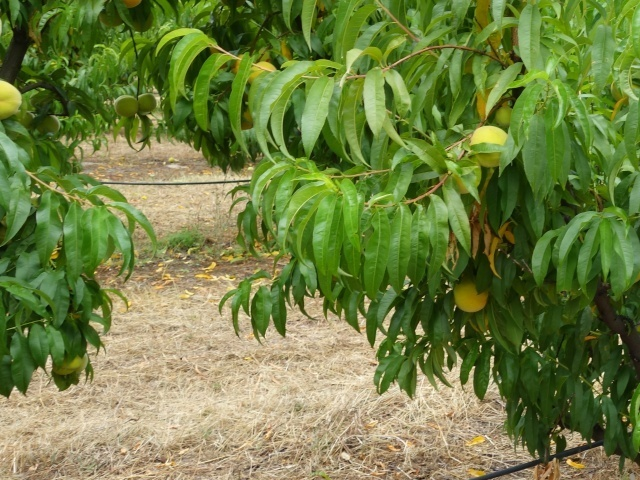peach: (468, 125, 515, 171), (449, 272, 492, 315), (446, 158, 486, 197), (1, 75, 26, 123), (48, 349, 83, 378), (246, 57, 279, 85), (110, 92, 140, 121), (37, 111, 64, 142), (135, 89, 159, 116), (492, 104, 515, 126)
